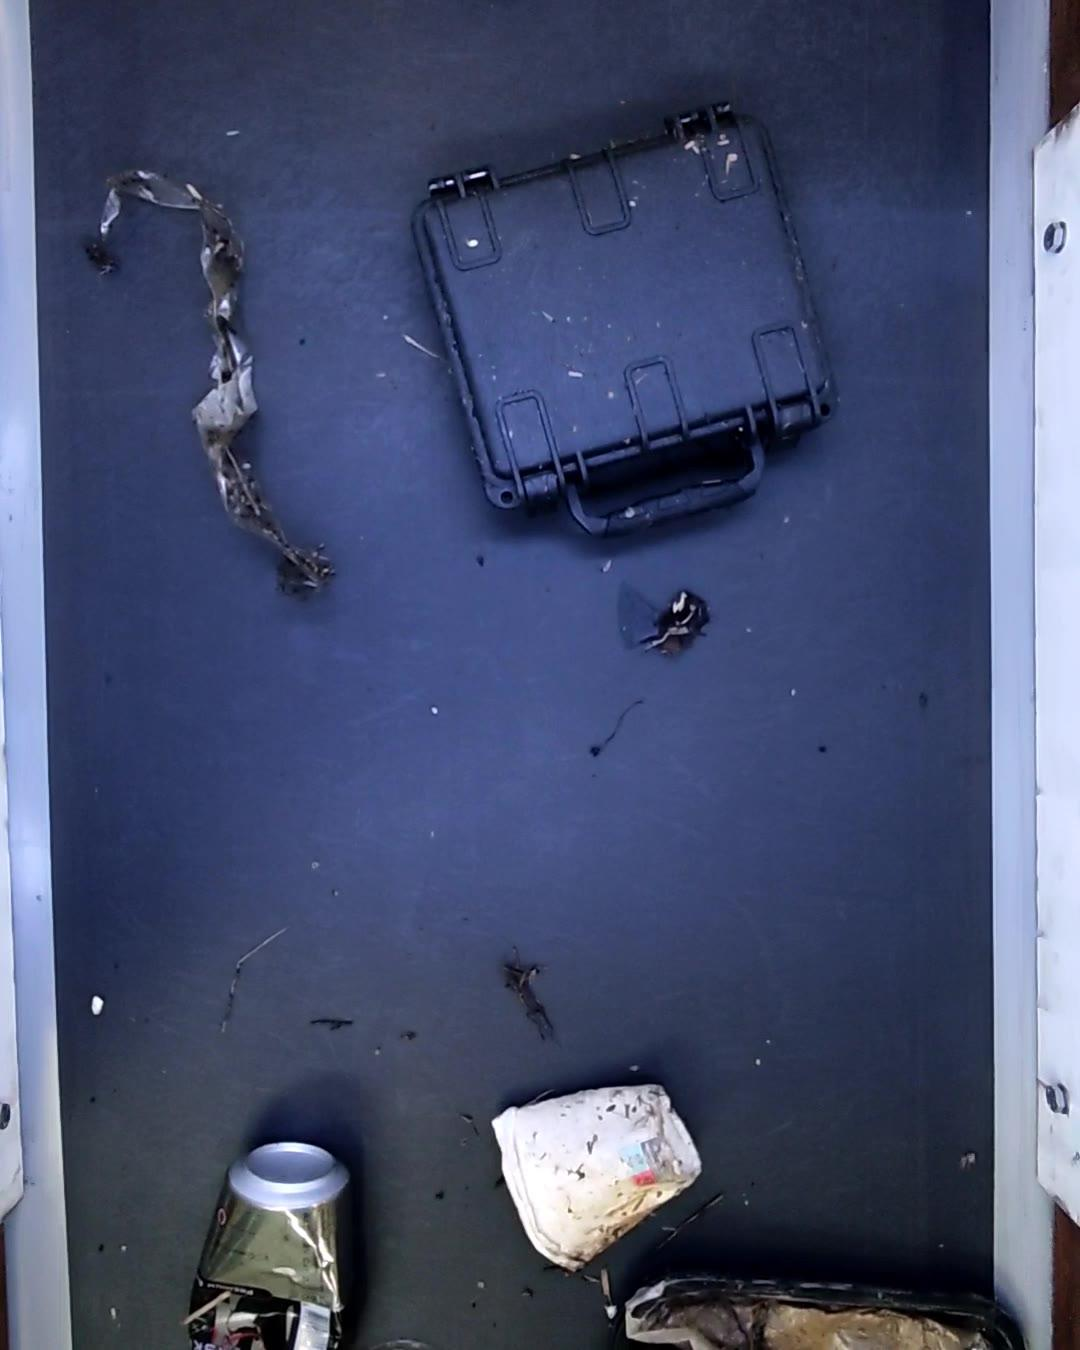Drankblikjes: (186, 1140, 357, 1350)
Plastic folies of stukken daarvan 2.5- 50 cm: (89, 168, 334, 613)
